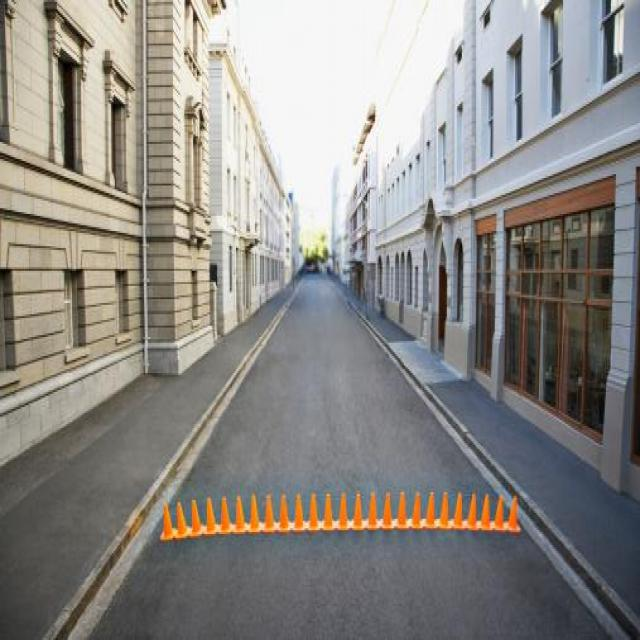Cone: (321, 494, 338, 536), (232, 494, 246, 536), (262, 494, 276, 536), (306, 492, 320, 534), (158, 502, 174, 538), (174, 502, 190, 538), (204, 498, 218, 538), (248, 496, 262, 536), (276, 494, 290, 532), (337, 496, 351, 534), (380, 494, 394, 530), (508, 494, 520, 536), (409, 492, 422, 530), (492, 494, 505, 532), (478, 494, 491, 530), (220, 498, 231, 538), (352, 494, 364, 530), (437, 492, 449, 528), (452, 492, 463, 530), (191, 500, 203, 534), (423, 492, 435, 526), (366, 496, 378, 528), (293, 496, 304, 530), (396, 492, 406, 528), (467, 494, 477, 530)
